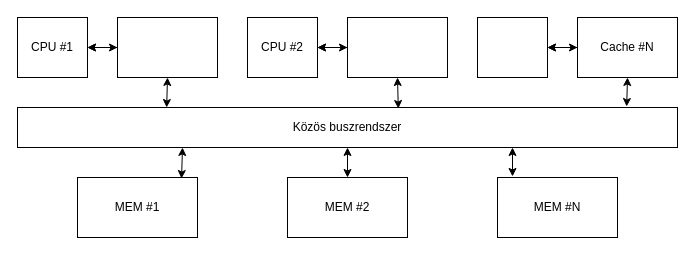
Some shapes in this 695 by 255 pixel diagram are drawn without their labels. The box of each missing label's shape, as (x1, y1, x2, y2) in pixels:
Cache #1: (116, 16, 218, 78)
Cache #2: (346, 16, 448, 78)
CPU #N: (476, 16, 548, 78)
